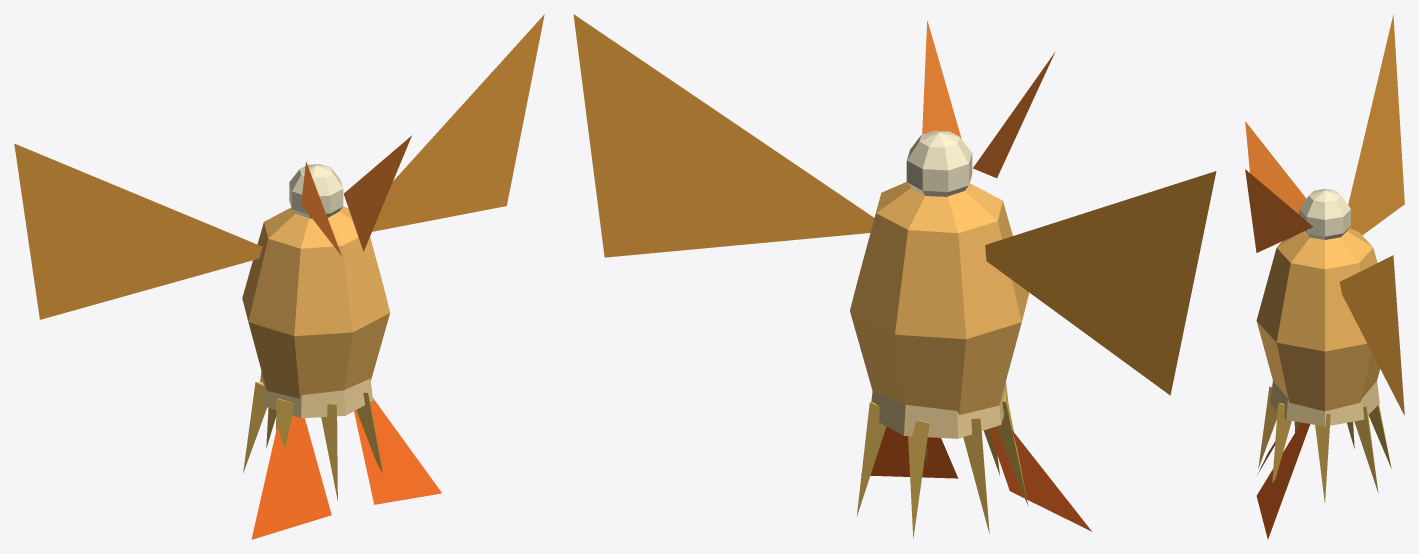
Rendered from seraph.glb.
3 renders of one model, left to right at view 1: azimuth 30°, elevation 25°; view 2: azimuth 150°, elevation 25°; view 3: azimuth 270°, elevation 25°, orthographic. The views are drawn at different scales.
Bounding box in the file's own units: 3.12 × 2.19 × 0.875.
1 material, 1 textured.
